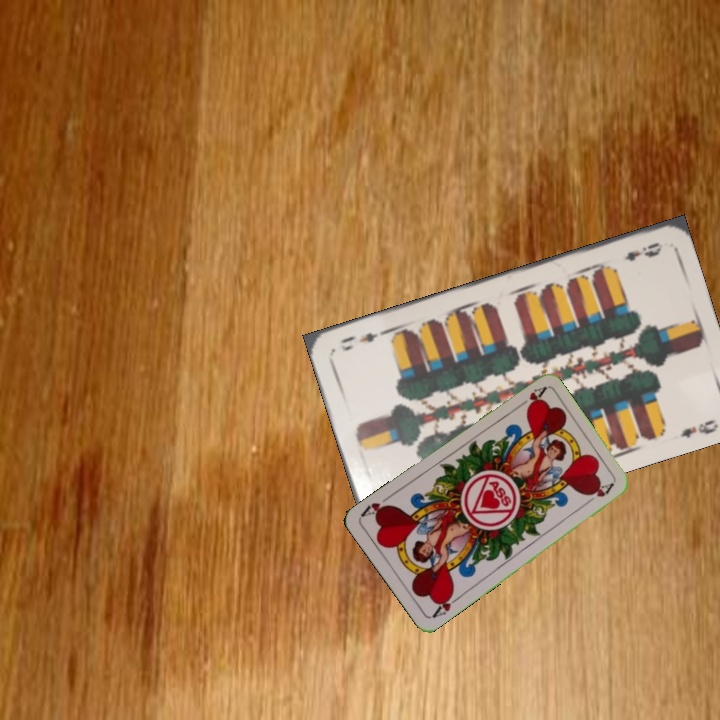E9: (621, 238, 666, 264)
HA: (428, 588, 464, 620), (511, 383, 548, 412)
